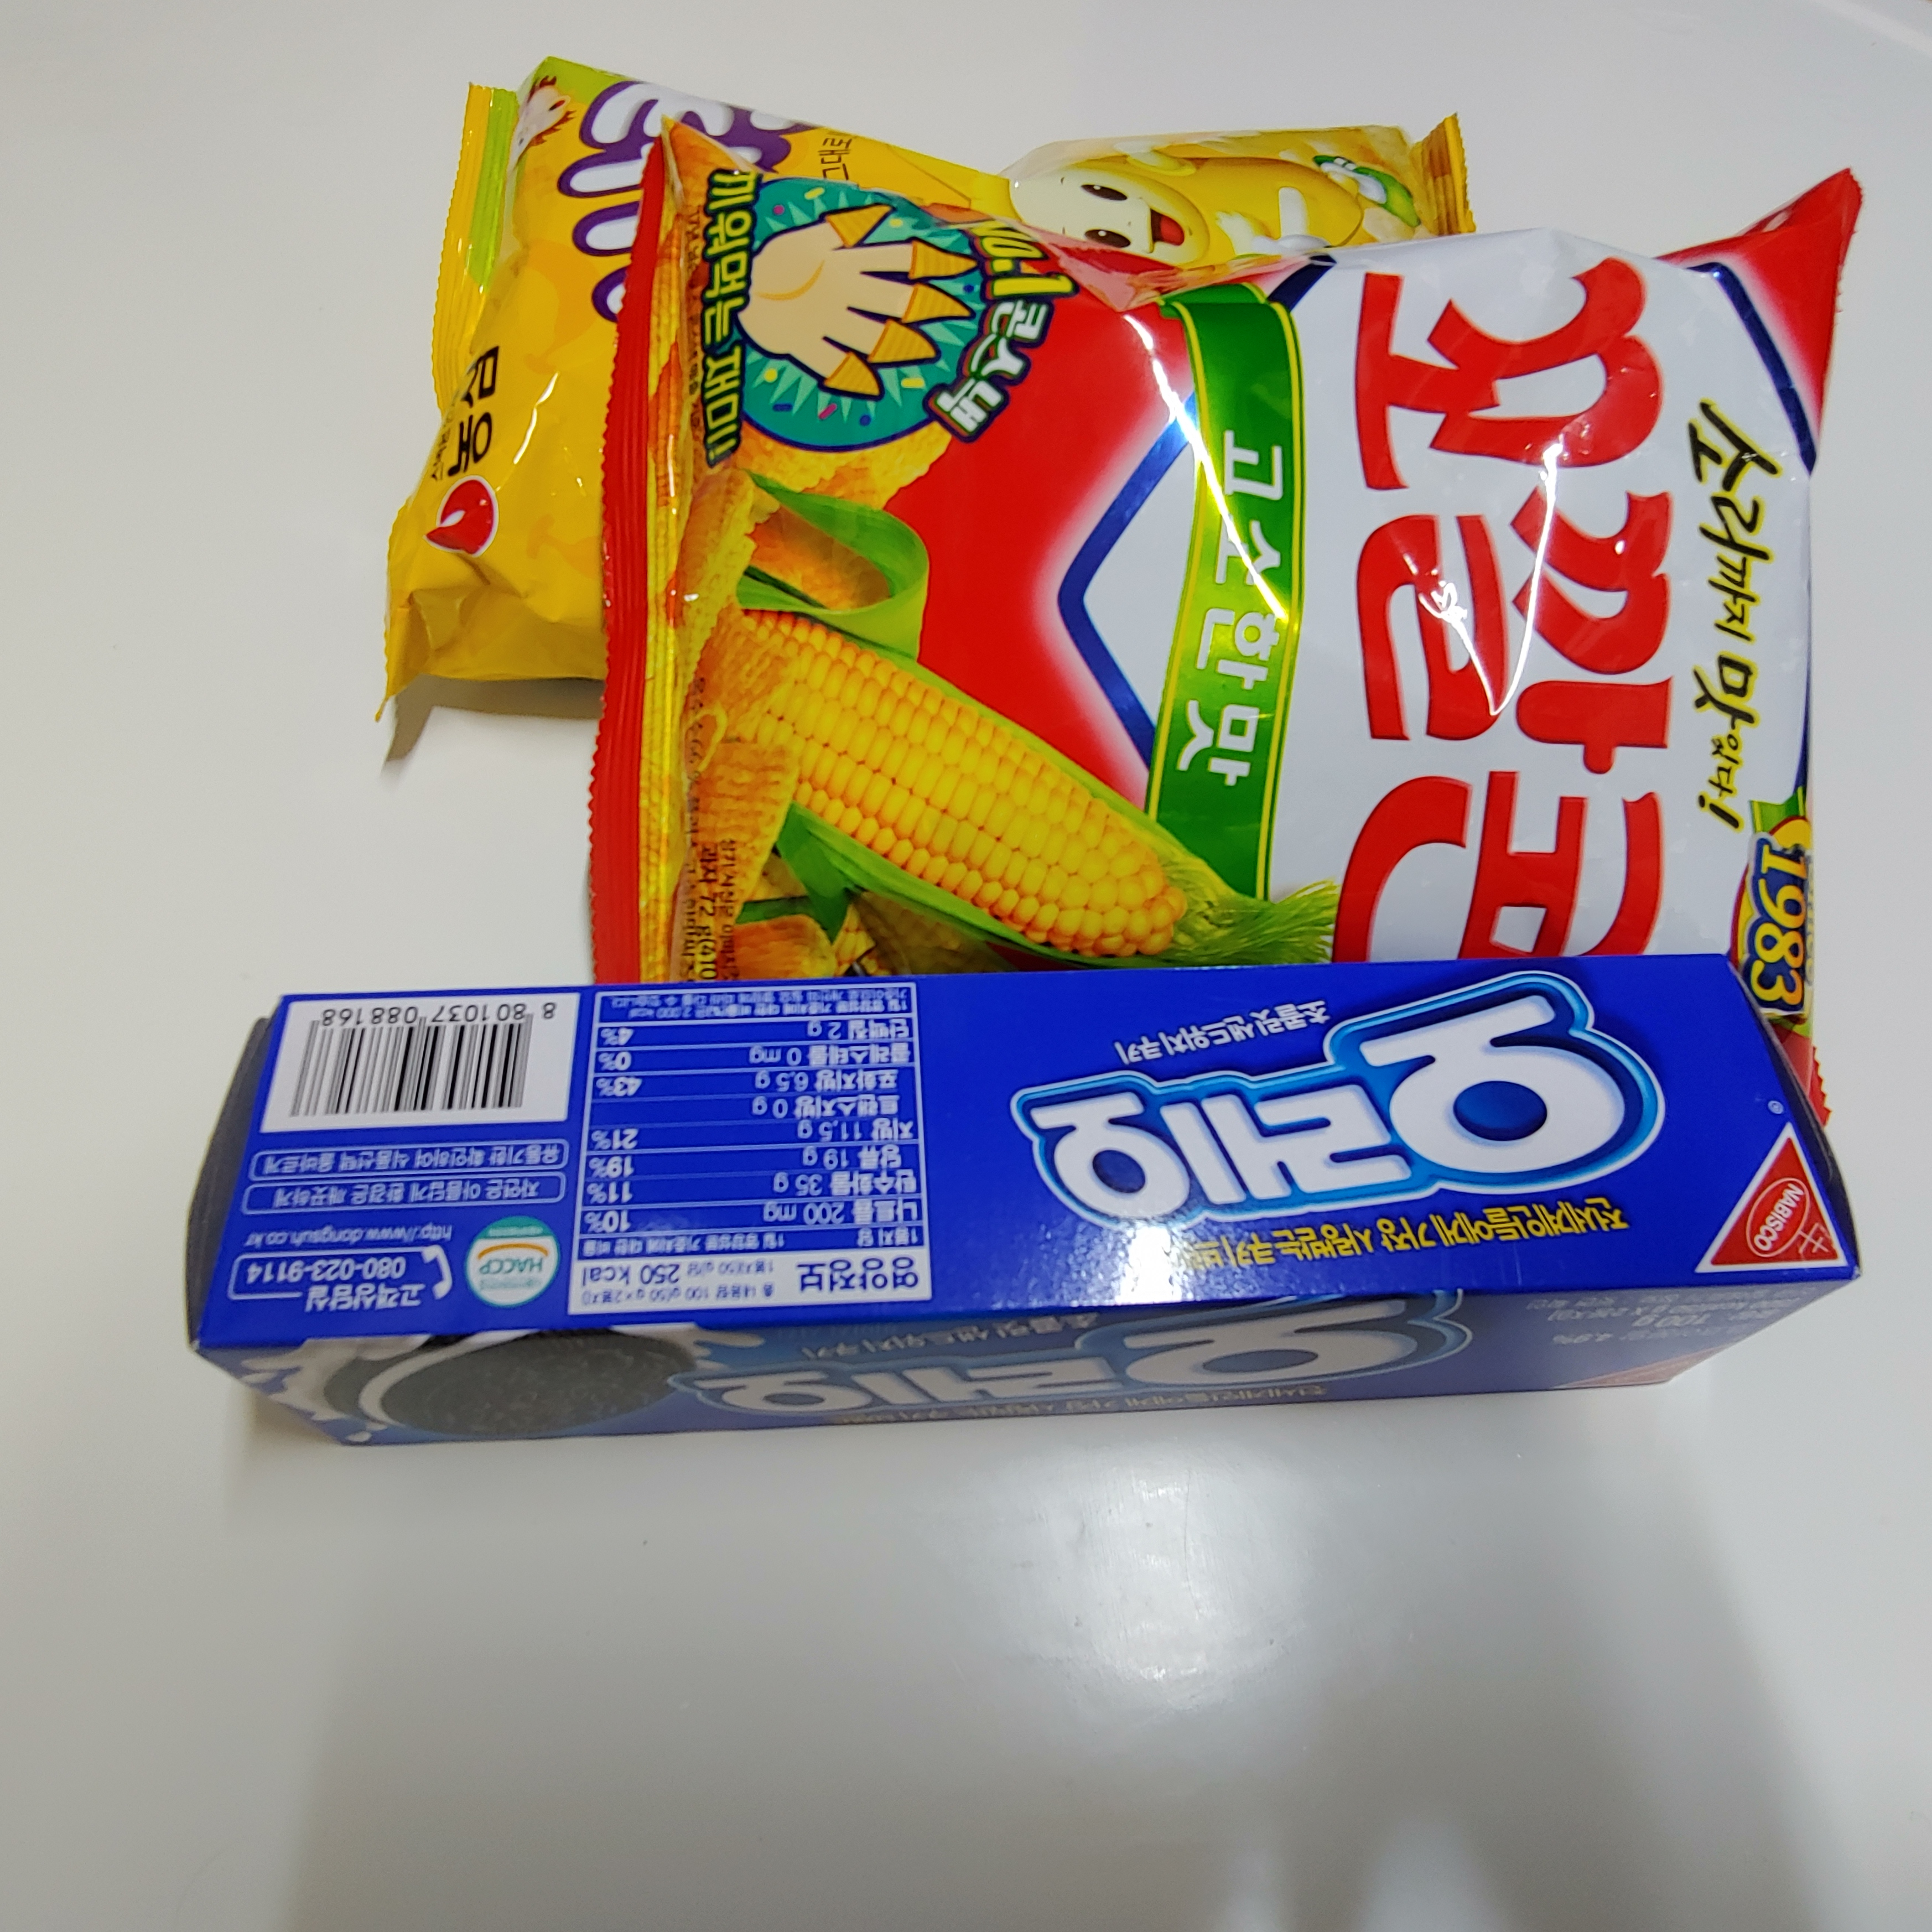banana: (350, 12, 1500, 724)
ggoggalcon: (594, 104, 1932, 1184)
oreo: (134, 939, 1891, 1520)
